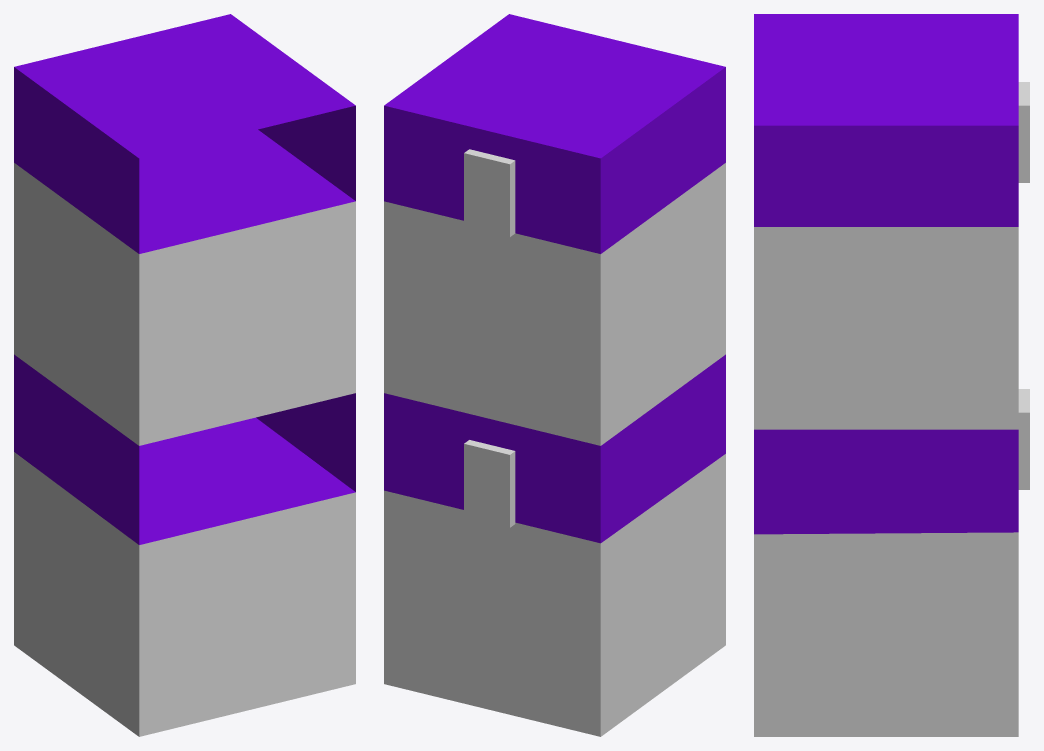
Rendered from lab.glb.
3 views of the same model, side by side, from view 1: azimuth 30°, elevation 25°; view 2: azimuth 150°, elevation 25°; view 3: azimuth 270°, elevation 25° (orthographic). The views are drawn at different scales.
Parts seen in each view (by area): view 1: Cube; view 2: Cube; view 3: Cube.
Boxes of the visible parts, box(x1,y1,x2,y2) form: Cube: box(14, 14, 355, 736); Cube: box(384, 14, 725, 736); Cube: box(754, 14, 1029, 736).
Bounding box in the file's own units: 9.19 × 23.42 × 9.58.
